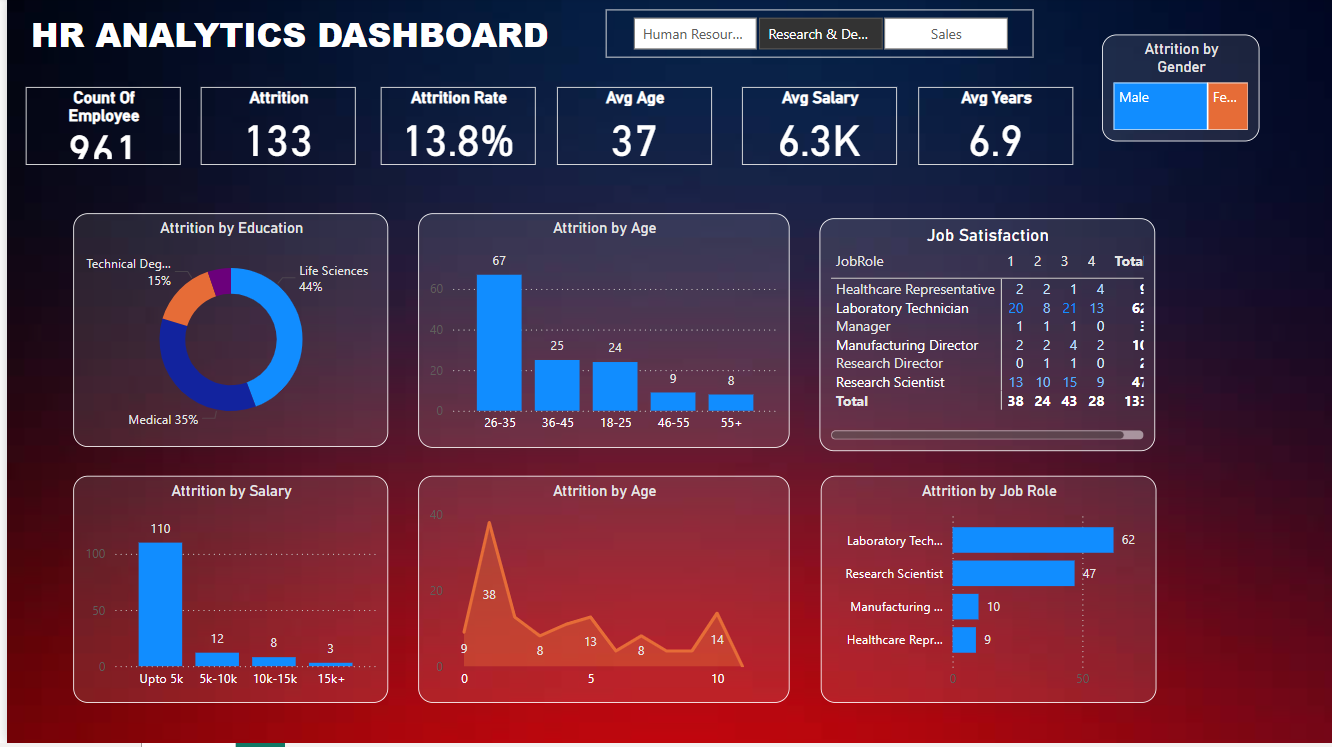

Layout of this report page (visuals, bound fields, positions):
{"tool":"powerbi","page":{"name":"Page 1","canvas":[1280,720],"ordinal":0},"visuals":[{"type":"card","title":"Count Of Employee","fields":{"Values":["CountNonNull(HR_Analytics.EmpID)"]},"box":[18.4,86.7,149.6,75.5],"z":0},{"type":"card","title":"Attrition","fields":{"Values":["Sum(HR_Analytics.AttritionCount)"]},"box":[186.6,86.7,149.6,75.5],"z":1000},{"type":"card","title":"Attrition Rate","fields":{"Values":["HR_Analytics.AttritionRate"]},"box":[360.9,86.7,149.6,75.5],"z":2000},{"type":"card","title":"Avg Age","fields":{"Values":["Avg(HR_Analytics.Age)"]},"box":[531,86.7,149.6,75.5],"z":3000},{"type":"card","title":"Avg Salary","fields":{"Values":["Avg(HR_Analytics.MonthlyIncome)"]},"box":[709.4,86.7,149.6,75.5],"z":4000},{"type":"card","title":"Avg Years","fields":{"Values":["Avg(HR_Analytics.YearsAtCompany)"]},"box":[879.6,86.7,149.6,75.5],"z":5000},{"type":"donutChart","title":"Attrition by Education","fields":{"Category":["HR_Analytics.EducationField"],"Y":["Sum(HR_Analytics.AttritionCount)"]},"box":[64.2,208.7,304,225.6],"z":6000},{"type":"columnChart","title":"Attrition by Age","fields":{"Category":["HR_Analytics.AgeGroup"],"Y":["Sum(HR_Analytics.AttritionCount)"]},"box":[397.4,208.6,358.1,226.4],"z":7000},{"type":"pivotTable","title":"Job Satisfaction","fields":{"Rows":["HR_Analytics.JobRole"],"Columns":["HR_Analytics.JobSatisfaction"],"Values":["Sum(HR_Analytics.AttritionCount)"]},"box":[784.1,213,323.8,225],"z":8000},{"type":"columnChart","title":"Attrition by Salary","fields":{"Category":["HR_Analytics.SalarySlab"],"Y":["Sum(HR_Analytics.AttritionCount)"]},"box":[64.2,462.1,304,219.6],"z":8001},{"type":"barChart","title":"Attrition by Job Role","fields":{"Category":["HR_Analytics.JobRole"],"Y":["Sum(HR_Analytics.AttritionCount)"]},"box":[784.9,462.4,323.8,219.6],"z":8002},{"type":"stackedAreaChart","title":"Attrition by Age","fields":{"Category":["HR_Analytics.YearsAtCompany"],"Y":["Sum(HR_Analytics.AttritionCount)"]},"box":[397.4,462.4,358.1,219.6],"z":8003},{"type":"treemap","title":"Attrition by Gender","fields":{"Group":["HR_Analytics.Gender"],"Values":["Sum(HR_Analytics.AttritionCount)"]},"box":[1057,36,152,103],"z":8004},{"type":"slicer","fields":{"Values":["HR_Analytics.Department"]},"box":[577.7,12.3,413,46.7],"z":8005},{"type":"textbox","box":[17.8,8.2,522.8,63.1],"z":8006}]}

Visuals, with their boxes in screenshot pixels (x1, y1, x2, y2), scaled from the page's 1280x720 canvas onto the 1332x747 screenshot:
"Count Of Employee" card: 19/90/175/168
"Attrition" card: 194/90/350/168
"Attrition Rate" card: 376/90/531/168
"Avg Age" card: 553/90/708/168
"Avg Salary" card: 738/90/894/168
"Avg Years" card: 915/90/1071/168
"Attrition by Education" donutChart: 67/217/383/451
"Attrition by Age" columnChart: 414/216/786/451
"Job Satisfaction" pivotTable: 816/221/1153/454
"Attrition by Salary" columnChart: 67/479/383/707
"Attrition by Job Role" barChart: 817/480/1154/708
"Attrition by Age" stackedAreaChart: 414/480/786/708
"Attrition by Gender" treemap: 1100/37/1258/144
slicer - HR_Analytics.Department: 601/13/1031/61
textbox: 19/9/563/74
